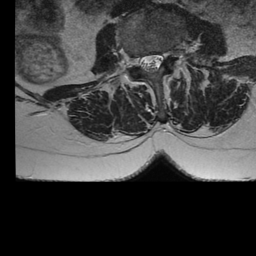CCS_normal: (147, 48, 155, 79)
LFS_stenosis: (163, 41, 172, 64)
LLS_normal: (155, 48, 163, 76)
RFS_normal: (130, 50, 139, 72)
RLS_normal: (139, 50, 147, 73)
